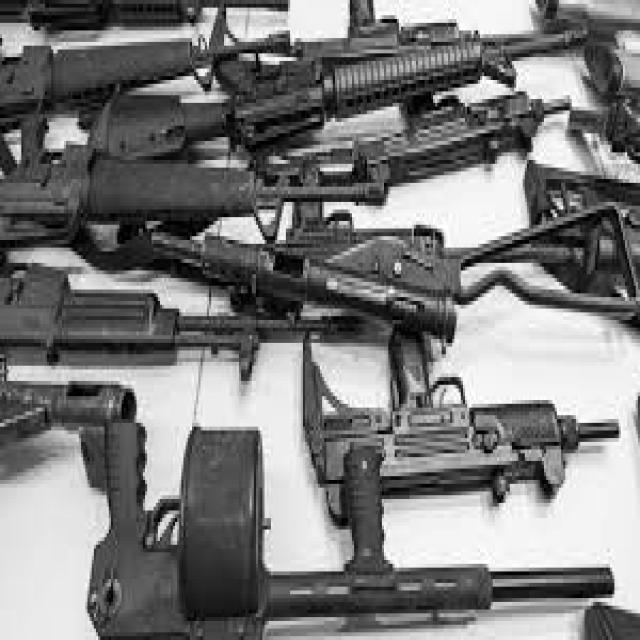gun: (69, 418, 618, 638), (145, 206, 640, 349), (293, 324, 624, 525), (81, 21, 594, 148)
